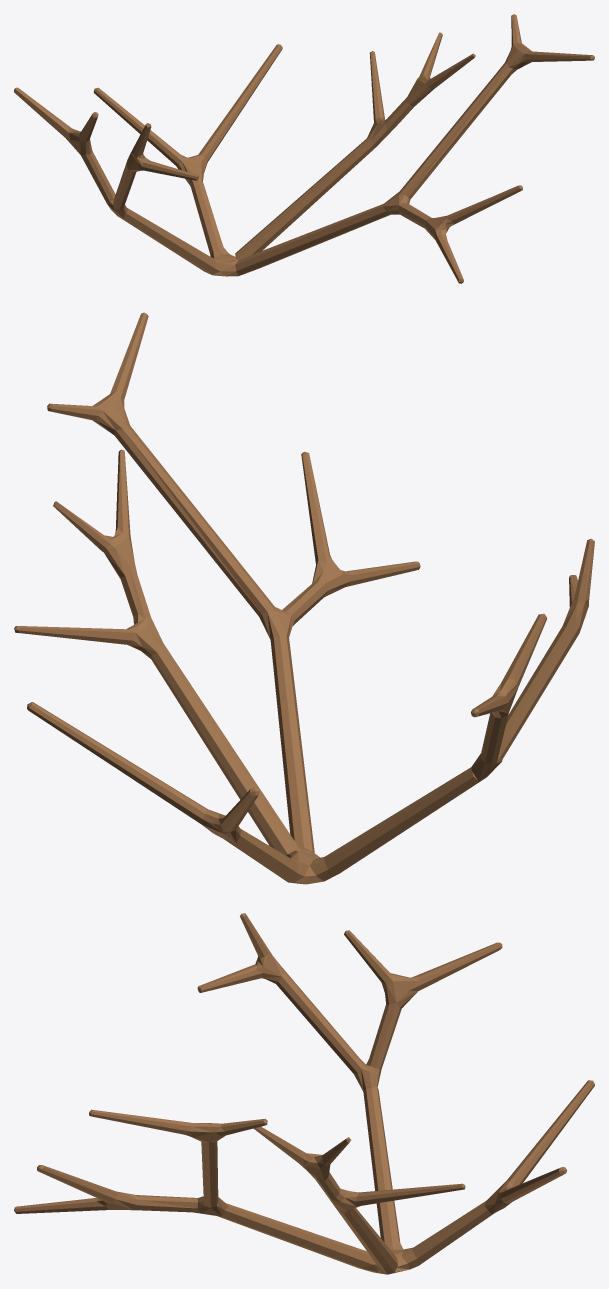
File: Bush_10 Withered.fbx
3 renders of one model, top to bottom at view 1: azimuth 30°, elevation 25°; view 2: azimuth 150°, elevation 25°; view 3: azimuth 270°, elevation 25°, orthographic. The views are drawn at different scales.
Visible parts, largest first — view 1: Bush10Withered_mesh; view 2: Bush10Withered_mesh; view 3: Bush10Withered_mesh.
Boxes of the visible parts, x1=… form: Bush10Withered_mesh: x1=14, y1=14, x2=594, y2=283; Bush10Withered_mesh: x1=14, y1=312, x2=594, y2=884; Bush10Withered_mesh: x1=14, y1=913, x2=594, y2=1274.
Size of the model in its own units: 67.49 by 39.17 by 69.07.
